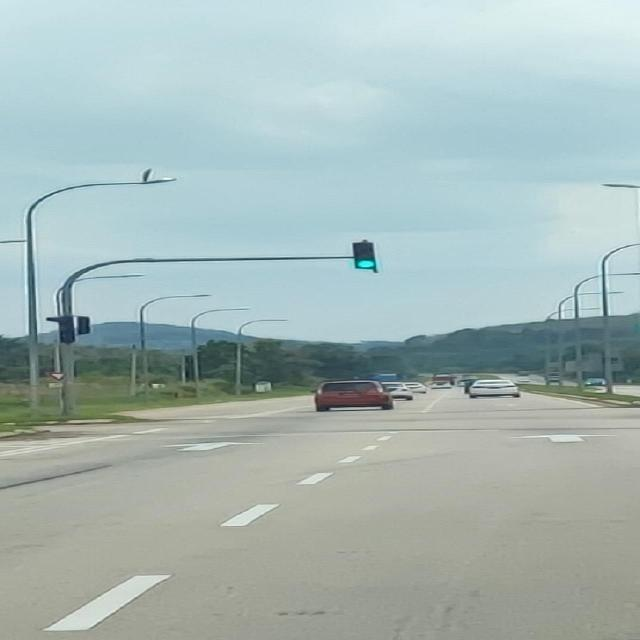green_light: (352, 242, 375, 268)
